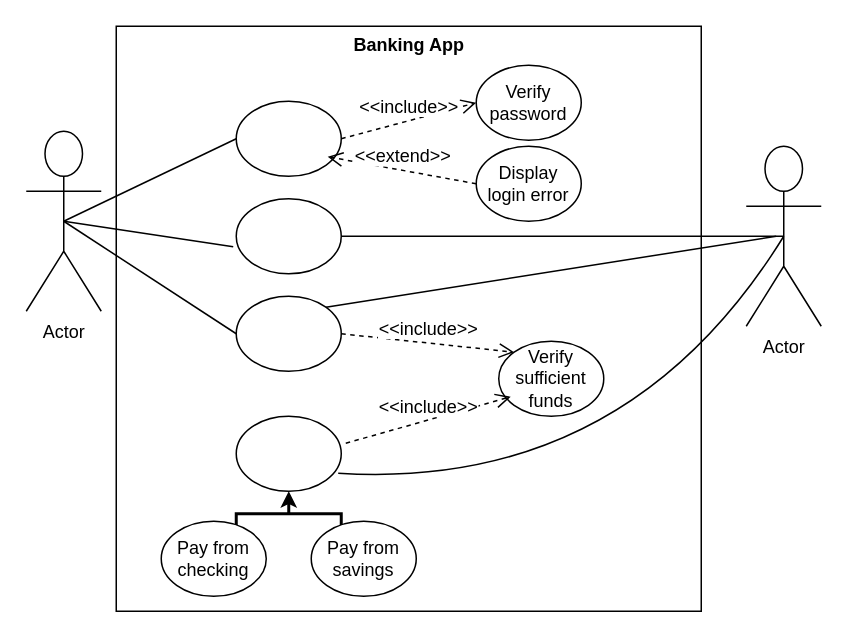
Image size: 848x638. Some labels were removed from this diagram. The centre of each missing label's shape, as x and y in pixels:
Check balance: pixel 288 235
Log in: pixel 288 138
Make payment: pixel 288 453
Transfer funds: pixel 288 333
